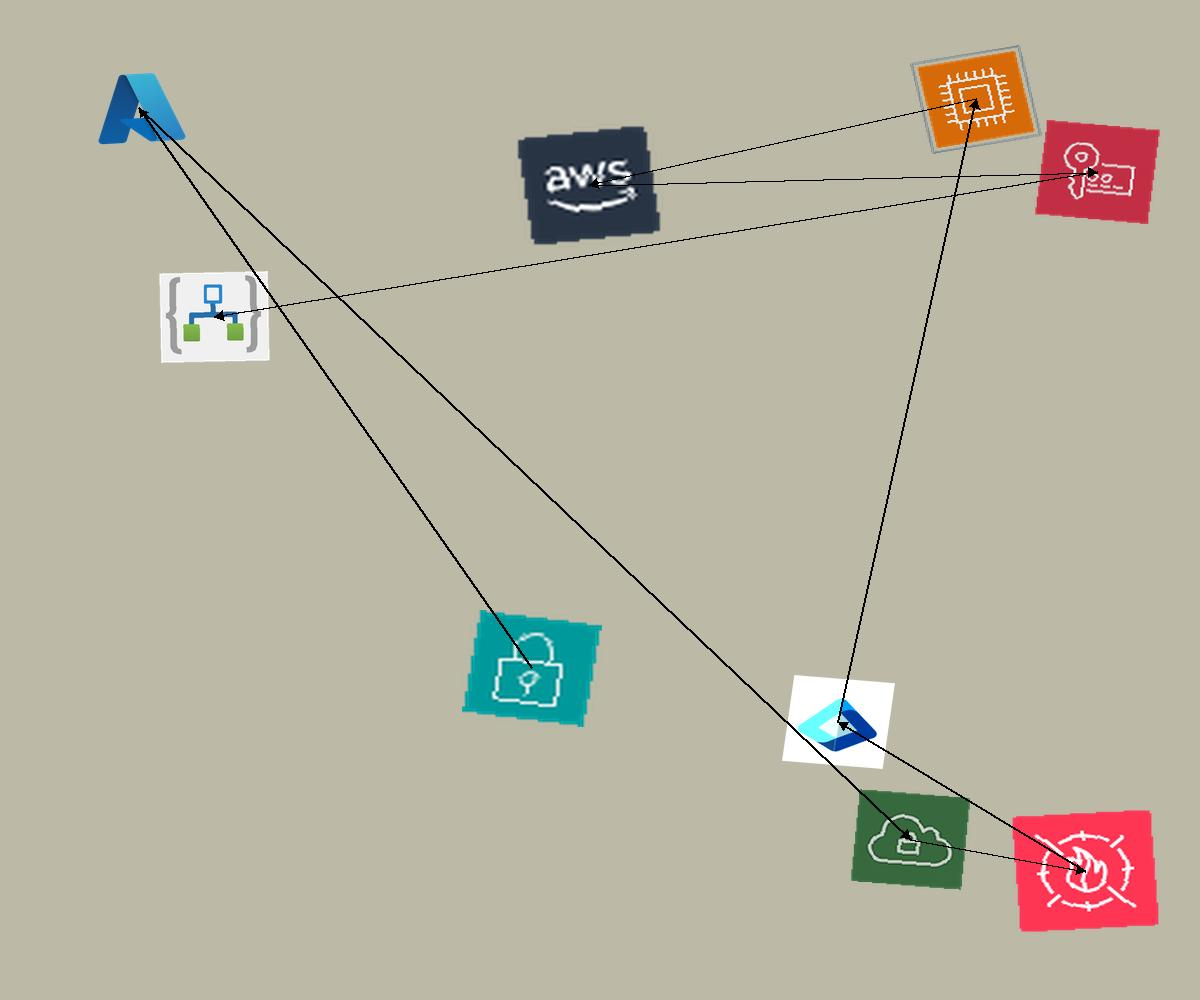AWS-Category_Compute: (909, 44, 1043, 155)
AWS-Cloud-logo: (515, 124, 663, 247)
AWS-Key-Management-Service: (1034, 119, 1161, 225)
AWS-Private-subnet: (462, 610, 602, 727)
AWS-Private_vpc: (850, 789, 971, 890)
AWS-WAF: (1011, 809, 1160, 933)
Azure_integration-204-Logic-Apps: (159, 271, 270, 363)
Azure_microsoft_entra: (782, 675, 895, 769)
Azure_services: (89, 66, 190, 150)
